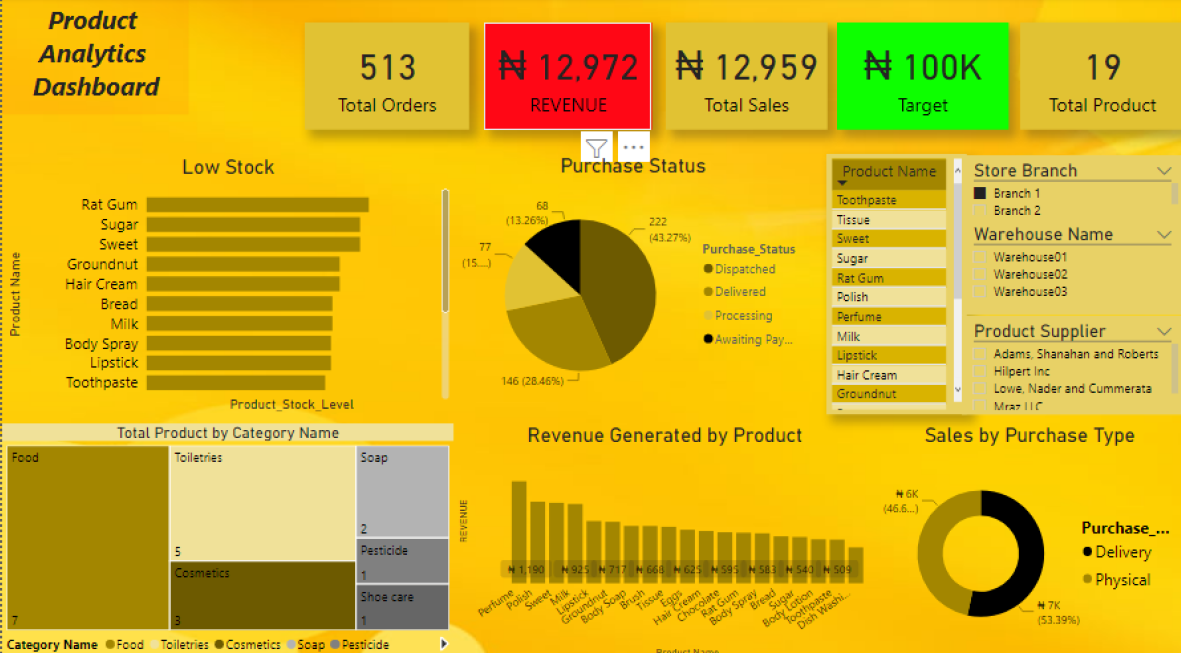

This screenshot's page, from the dashboard's own definition file:
{"tool":"powerbi","page":{"name":"PRODUCT","canvas":[1280,720],"ordinal":1},"visuals":[{"type":"card","fields":{"Values":["Brand.Revenue"]},"box":[521.3,26.8,181.5,116.4],"z":0},{"type":"card","fields":{"Values":["Inventory.Total Sales"]},"box":[718,26.8,174.5,116.4],"z":1000},{"type":"card","fields":{"Values":["Inventory.Target"]},"box":[904.1,26.8,186.2,116.4],"z":2000},{"type":"card","fields":{"Values":["Inventory.Total Orders"]},"box":[327,26.8,178,116.4],"z":3000},{"type":"card","fields":{"Values":["Product.Total Product"]},"box":[1102,26.8,178,116.4],"z":4000},{"type":"barChart","title":"Low Stock","fields":{"Y":["Sum(Inventory.Product_Stock_Level)"],"Category":["Product.Product_Name"]},"box":[0,170.3,488.9,281.5],"z":5000},{"type":"treemap","title":"Total Product by Category Name","fields":{"Group":["Product.Category_Name "],"Values":["Product.Total Product"]},"box":[0,461.5,488.9,258.2],"z":6000},{"type":"tableEx","fields":{"Values":["Product.Product_Name"]},"box":[892.5,169.9,152.4,281.6],"z":7000},{"type":"clusteredColumnChart","title":"Revenue Generated by Product","fields":{"Category":["Product.Product_Name"],"Y":["Inventory.Revenue"]},"box":[488.9,461.5,457.3,258.2],"z":8000},{"type":"slicer","fields":{"Values":["Inventory.Branch_Name"]},"box":[1039.7,170.3,240.3,70],"z":9000},{"type":"pieChart","title":"Purchase Status","fields":{"Category":["Purchase_Details.Purchase_Status"],"Y":["Inventory.Total Orders"]},"box":[488.7,169.9,388.7,281.6],"z":10000},{"type":"slicer","fields":{"Values":["Product.Warehouse_Name"]},"box":[1039.7,240.3,240.3,104.4],"z":11000},{"type":"donutChart","title":"Sales by Purchase Type","fields":{"Y":["Inventory.Total Sales"],"Category":["Purchase_Details.Purchase_Type"]},"box":[946.3,461.5,333.7,258.2],"z":12000},{"type":"slicer","fields":{"Values":["Product.Company_Name"]},"box":[1039.7,344.7,240.3,107.1],"z":13000},{"type":"image","box":[202.5,24.4,69.8,60.5],"z":14000},{"type":"textbox","box":[0,0,202.5,126.8],"z":15000}]}

Visuals, with their boxes in screenshot pixels (x1, y1, x2, y2), scaled from the page's 1280x720 canvas onto the 1181x653 screenshot:
card - Brand.Revenue: BBox(481, 24, 648, 130)
card - Inventory.Total Sales: BBox(662, 24, 823, 130)
card - Inventory.Target: BBox(834, 24, 1006, 130)
card - Inventory.Total Orders: BBox(302, 24, 466, 130)
card - Product.Total Product: BBox(1017, 24, 1180, 130)
"Low Stock" barChart: BBox(0, 154, 451, 410)
"Total Product by Category Name" treemap: BBox(0, 419, 451, 652)
tableEx - Product.Product_Name: BBox(823, 154, 964, 409)
"Revenue Generated by Product" clusteredColumnChart: BBox(451, 419, 873, 652)
slicer - Inventory.Branch_Name: BBox(959, 154, 1180, 218)
"Purchase Status" pieChart: BBox(451, 154, 810, 409)
slicer - Product.Warehouse_Name: BBox(959, 218, 1180, 313)
"Sales by Purchase Type" donutChart: BBox(873, 419, 1180, 652)
slicer - Product.Company_Name: BBox(959, 313, 1180, 410)
image: BBox(187, 22, 251, 77)
textbox: BBox(0, 0, 187, 115)
